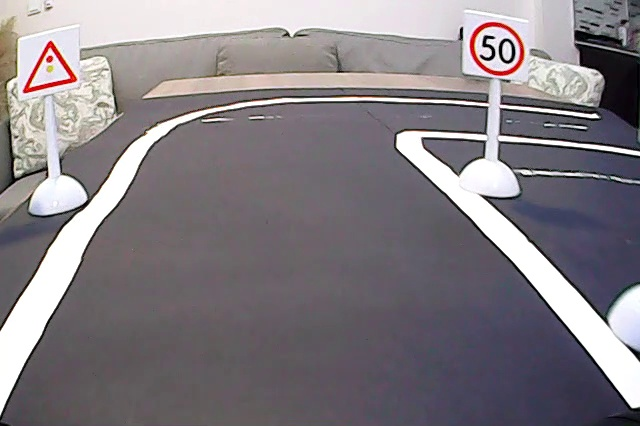red light: (20, 40, 84, 93)
speed limit 50: (465, 11, 529, 77)
